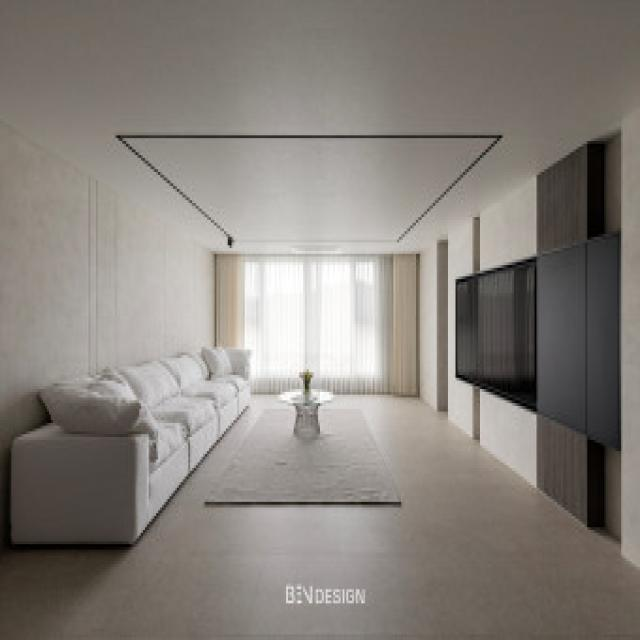Sofa: (12, 345, 249, 551)
Table: (282, 370, 334, 442)
tv: (453, 253, 540, 414)
window: (215, 255, 418, 395)
